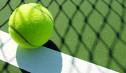tennis ball: (7, 2, 55, 52)
